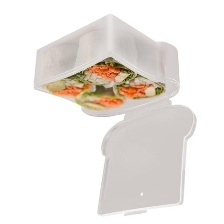plastic_box: (25, 7, 204, 223)
